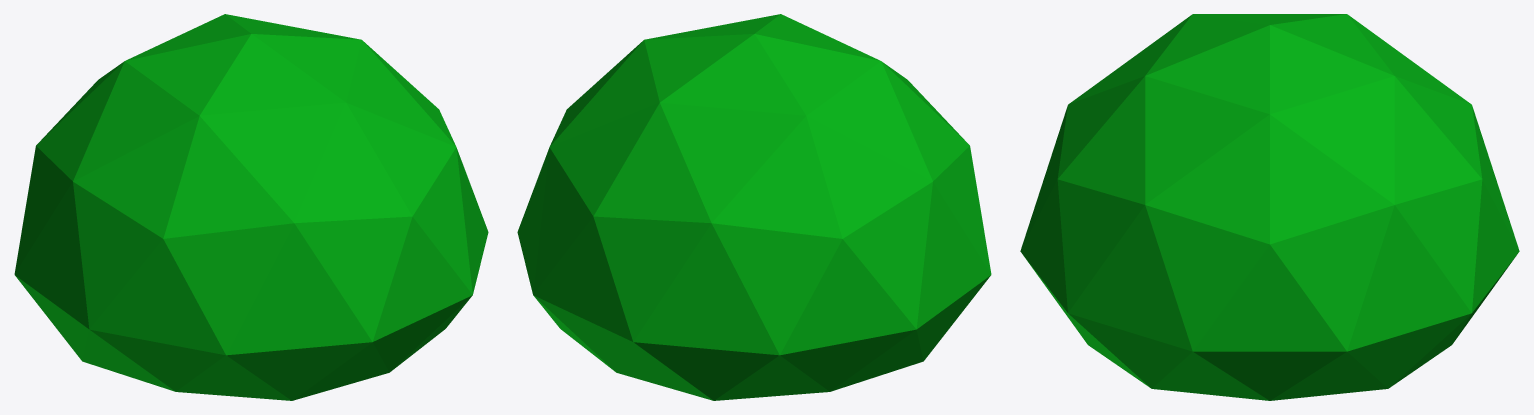
Rendered from puska2.fbx.
3 renders of one model, left to right at view 1: azimuth 30°, elevation 25°; view 2: azimuth 150°, elevation 25°; view 3: azimuth 270°, elevation 25°, orthographic. The views are drawn at different scales.
Visible parts, largest first — view 1: Icosphere; view 2: Icosphere; view 3: Icosphere.
Boxes of the visible parts, x1=… form: Icosphere: x1=14, y1=14, x2=488, y2=400; Icosphere: x1=517, y1=14, x2=991, y2=400; Icosphere: x1=1020, y1=14, x2=1519, y2=400.
Bounding box in the file's own units: 107 × 73.28 × 112.
